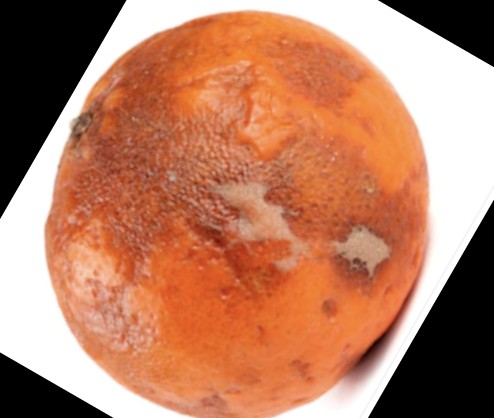rotten_orange: (46, 9, 429, 418)
